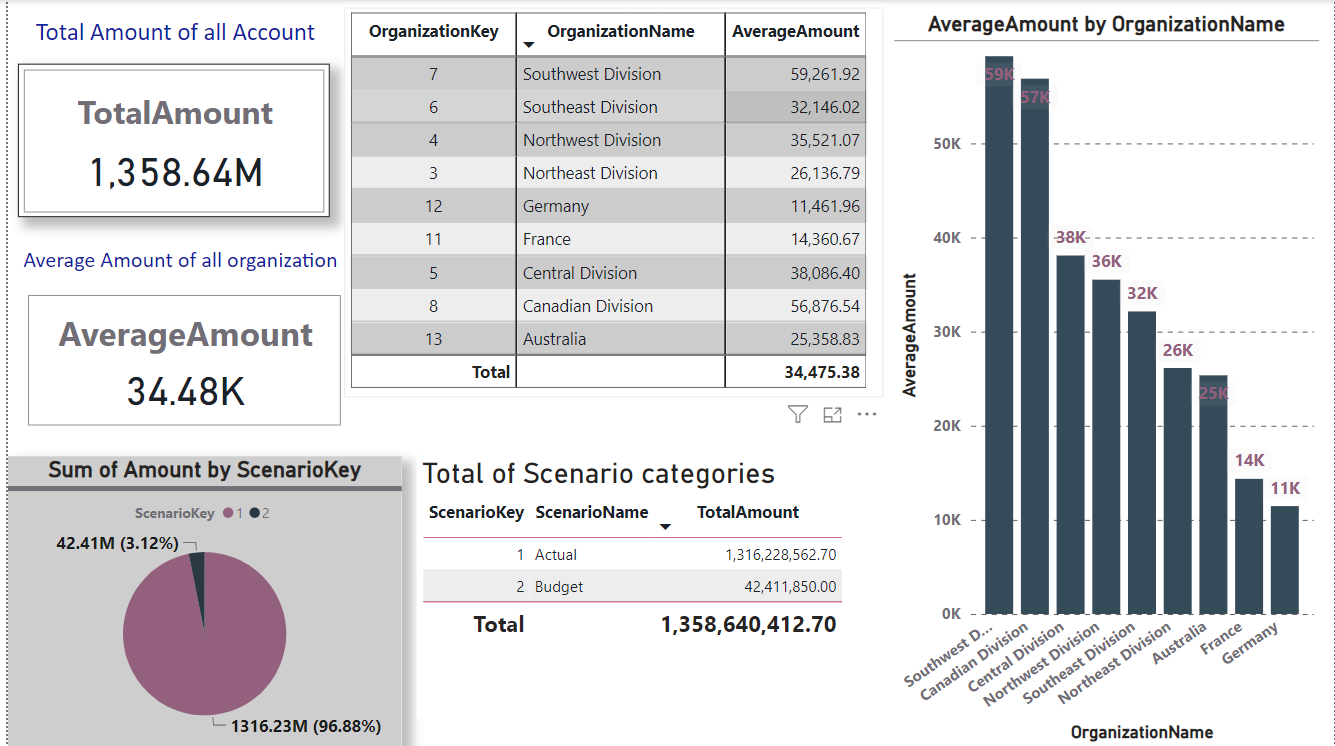

Layout of this report page (visuals, bound fields, positions):
{"tool":"powerbi","page":{"name":"Page 1","canvas":[1280,720],"ordinal":0},"visuals":[{"type":"cardVisual","fields":{"Data":["My Measurements.TotalAmount"]},"box":[9.7,61.5,300.4,148.4],"z":0},{"type":"pieChart","fields":{"Category":["DimScenario.ScenarioKey"],"Y":["Sum(FactFinance.Amount)"]},"box":[0,440,380,280],"z":2000},{"type":"tableEx","title":"Total of Scenario categories","fields":{"Values":["DimScenario.ScenarioKey","DimScenario.ScenarioName","My Measurements.TotalAmount"]},"box":[395,440,435,252.5],"z":3000},{"type":"cardVisual","fields":{"Data":["My Measurements.AverageAmount"]},"box":[14.5,279.9,312.5,136.3],"z":6001},{"type":"textbox","box":[9.7,232.8,370.4,47.1],"z":6002},{"type":"textbox","box":[21.7,10.9,335.4,41],"z":6003},{"type":"tableEx","fields":{"Values":["DimOrganization.OrganizationKey","DimOrganization.OrganizationName","My Measurements.AverageAmount"]},"box":[325,7.5,520,376.2],"z":6004},{"type":"clusteredColumnChart","fields":{"Category":["DimOrganization.OrganizationName"],"Y":["My Measurements.AverageAmount"]},"box":[855,11.2,410,708.8],"z":6005}]}

Visuals, with their boxes in screenshot pixels (x1, y1, x2, y2), scaled from the page's 1280x720 canvas onto the 1335x746 screenshot:
cardVisual - My Measurements.TotalAmount: left=10, top=64, right=323, bottom=217
pieChart - DimScenario.ScenarioKey x Sum(FactFinance.Amount): left=0, top=456, right=396, bottom=745
"Total of Scenario categories" tableEx: left=412, top=456, right=866, bottom=718
cardVisual - My Measurements.AverageAmount: left=15, top=290, right=341, bottom=431
textbox: left=10, top=241, right=396, bottom=290
textbox: left=23, top=11, right=372, bottom=54
tableEx - DimOrganization.OrganizationKey x DimOrganization.OrganizationName: left=339, top=8, right=881, bottom=398
clusteredColumnChart - DimOrganization.OrganizationName x My Measurements.AverageAmount: left=892, top=12, right=1319, bottom=745
